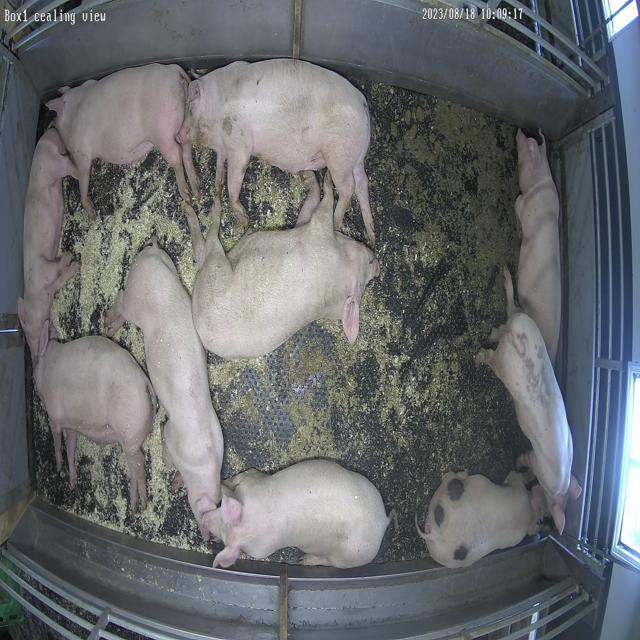Dirt: (385, 97, 519, 332), (358, 360, 529, 522), (264, 324, 356, 470)
Pig: (186, 172, 380, 360), (176, 58, 375, 240), (108, 239, 223, 540), (47, 63, 190, 216), (34, 333, 153, 510), (204, 460, 391, 570), (478, 313, 573, 504), (18, 127, 78, 364), (416, 472, 548, 569), (516, 129, 563, 362)
